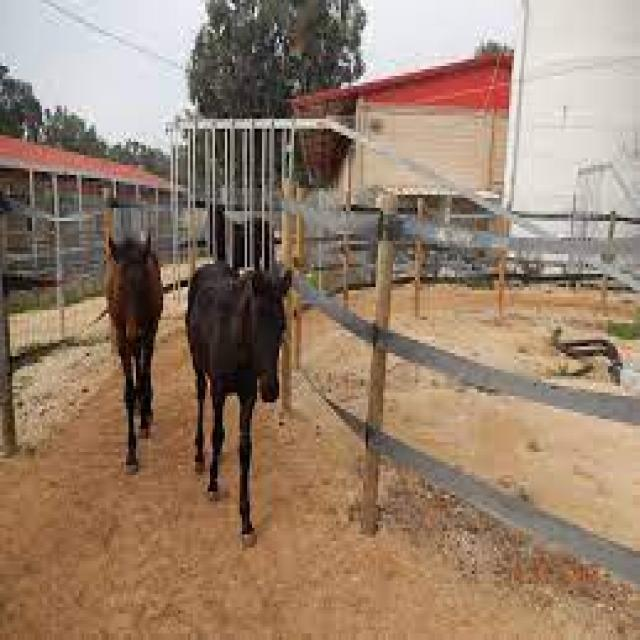horse: (186, 231, 313, 545), (68, 144, 176, 457)
